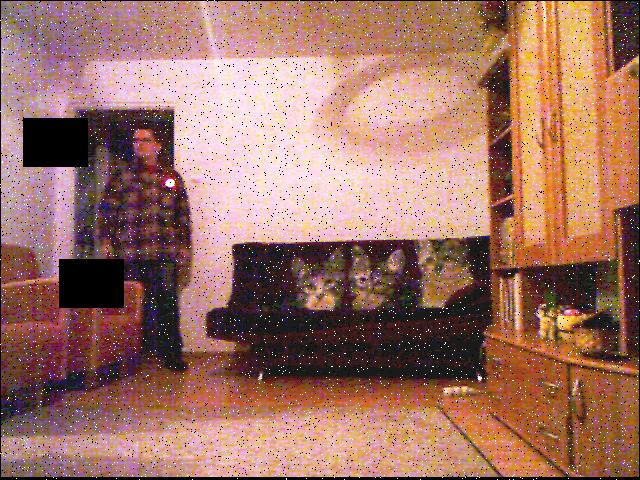walking: (92, 103, 211, 392)
